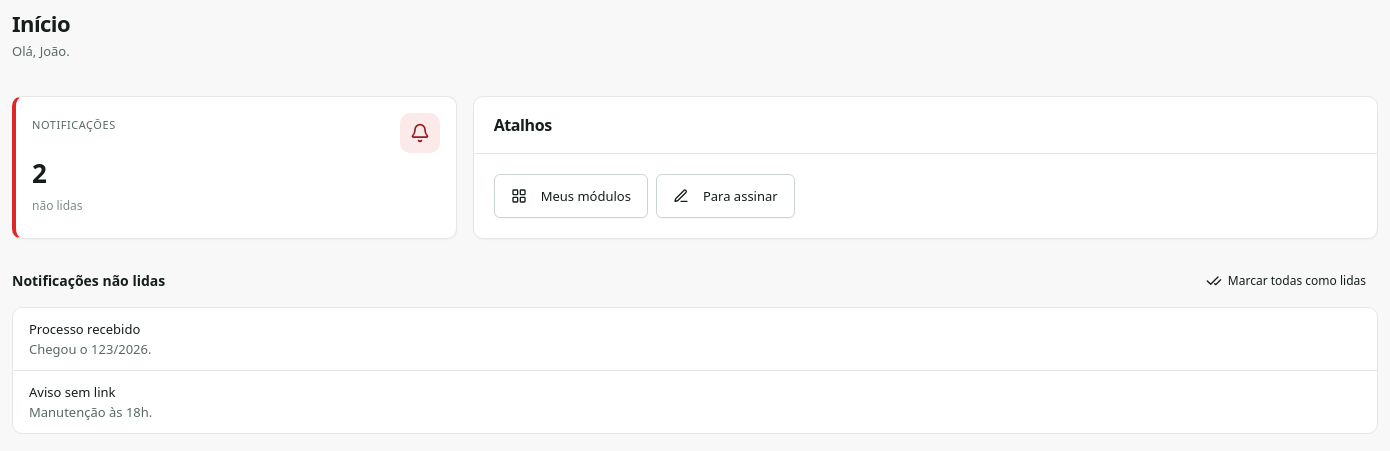
Test: tela inicial › marcar todas como lidas zera o que a tela mostra
Check: the link "Processo recebido" is shown, box [29, 320, 140, 338]
Click the button "Marcar todas como lidas" at (1286, 281), box [1194, 263, 1378, 299]
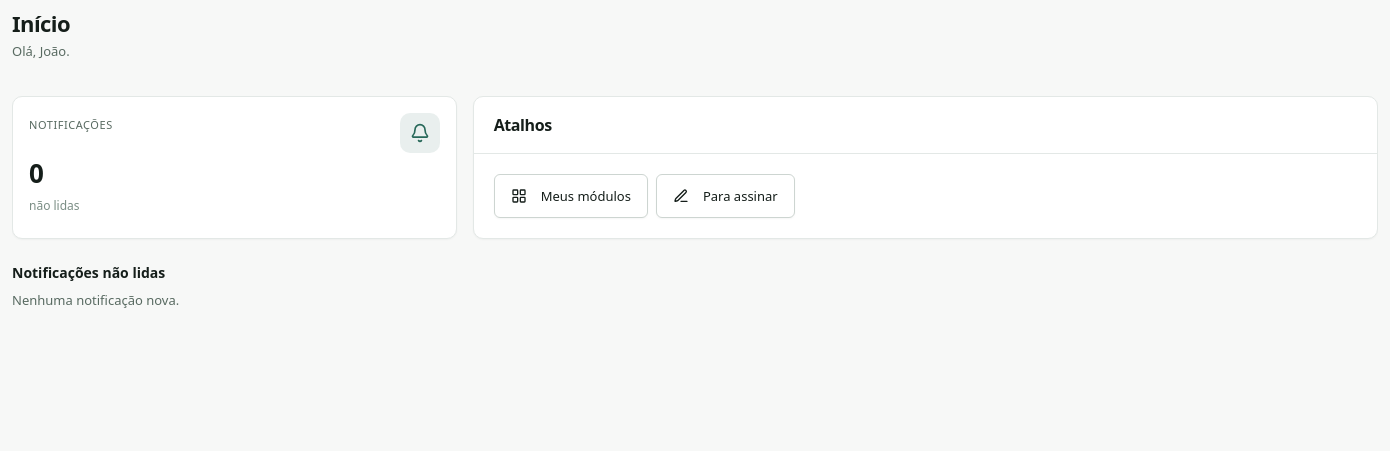
Check: the text "Nenhuma notificação nova." is shown, box [12, 291, 179, 309]
Check: the text with test id "kpi-valor" reads "0", box [29, 155, 43, 191]
